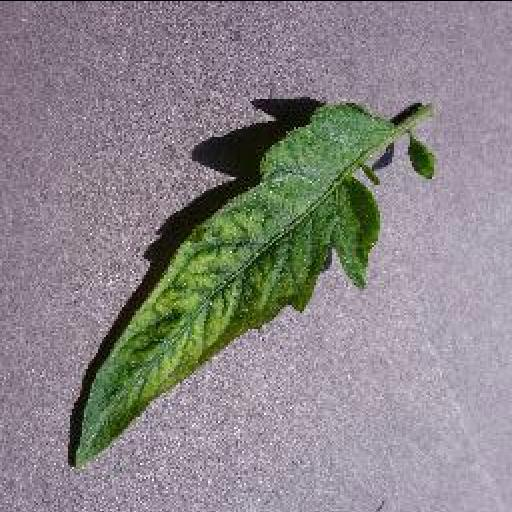disease_tomato: (70, 102, 396, 472)
